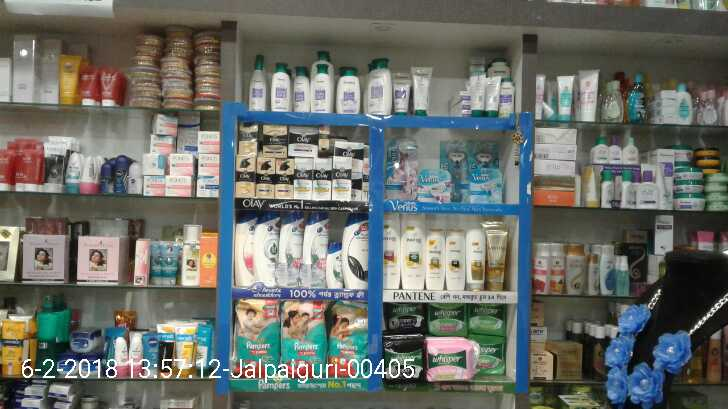venus: (388, 142, 417, 202), (449, 145, 470, 197), (417, 168, 445, 202), (470, 170, 502, 197), (474, 144, 501, 163)
